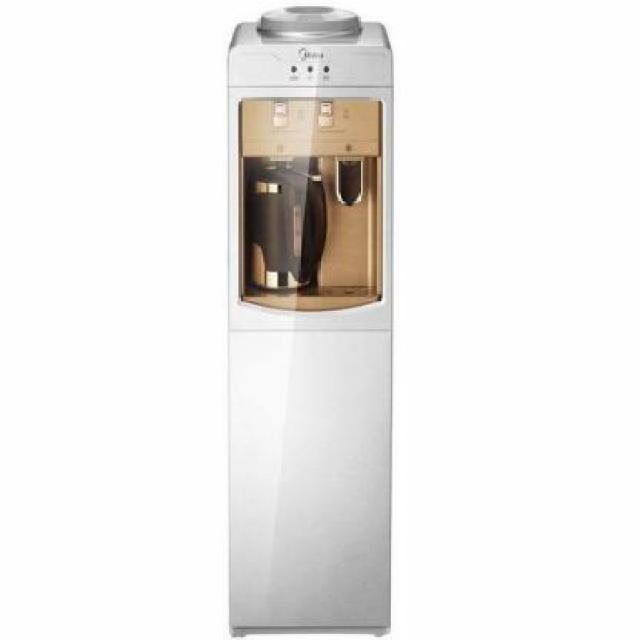cooler: (223, 0, 399, 640)
